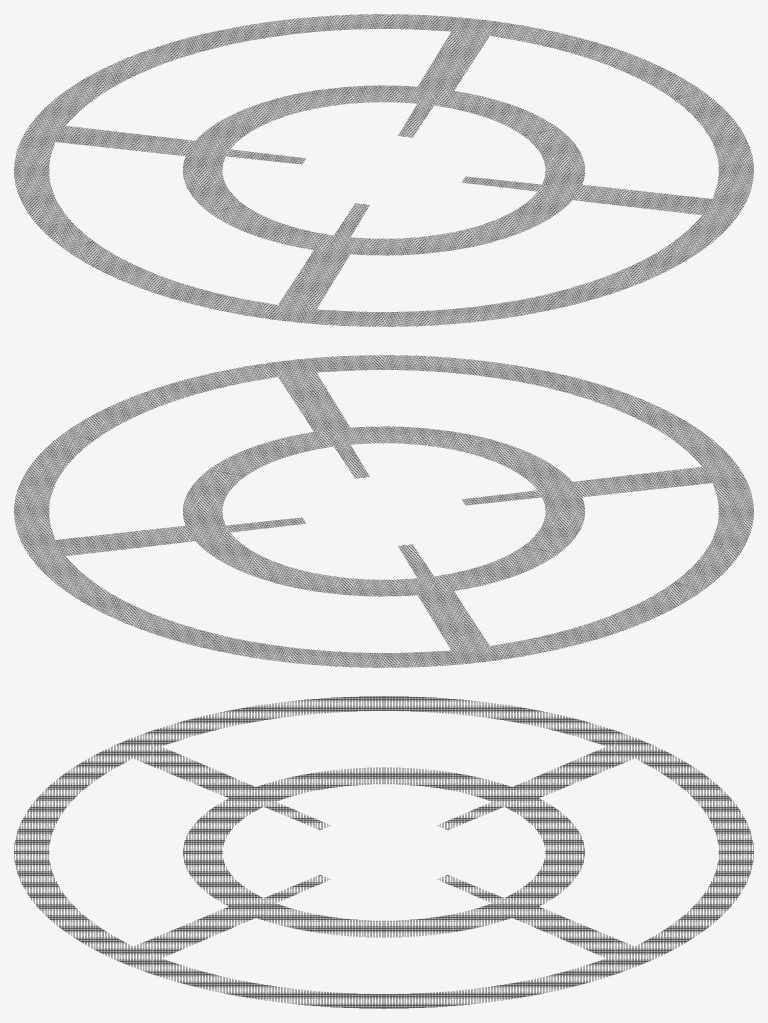
File: platform1_2.obj
The picture shows the model from 3 angles, top to bottom: view 1: azimuth 30°, elevation 25°; view 2: azimuth 150°, elevation 25°; view 3: azimuth 270°, elevation 25°; orthographic projection.
Parts seen in each view (by area): view 1: platform1_2; view 2: platform1_2; view 3: platform1_2.
Part boxes in pixels (x1=…): platform1_2: x1=14, y1=14, x2=753, y2=326; platform1_2: x1=14, y1=355, x2=753, y2=667; platform1_2: x1=14, y1=696, x2=753, y2=1008.
Size of the model in its own units: 61.24 by 0 by 61.24.
1 material, 1 textured.
